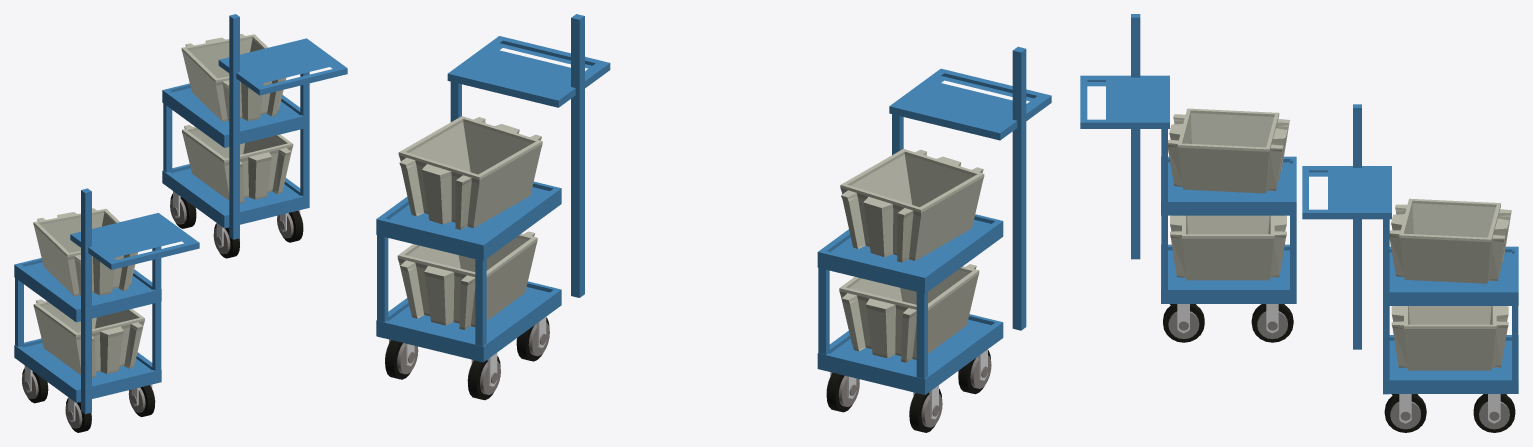
Rendered from Cart.fbx.
The picture shows the model from 3 angles, left to right: view 1: azimuth 30°, elevation 25°; view 2: azimuth 150°, elevation 25°; view 3: azimuth 270°, elevation 25°; orthographic projection. The views are drawn at different scales.
Visible parts, largest first — view 1: Tote1 (×2), Tote_2 (×2), pCube712 (×2), pCube697 (×2), pCube699 (×2), pCube700 (×2), pCube701 (×2), pCube703 (×2), pCylinder1 (×2); view 2: Tote_2 (×2), Tote1 (×2), pCube712 (×2), pCube697 (×2), pCube699 (×2), pCube700 (×2), pCube703 (×2), pCube702 (×2); view 3: Tote_2 (×2), Tote1 (×2), pCube712 (×2), pCube699 (×2), pCube697 (×2), pCube700 (×2), pCube701 (×2), pCylinder11 (×2), pCylinder1 (×2), pCube702 (×2), pCylinder12 (×2), pCylinder2 (×2).
Boxes of the visible parts, left/top/right/bottom form: Tote1 (×2): left=33, top=125, right=293, bottom=377; Tote_2 (×2): left=33, top=34, right=286, bottom=295; pCube712 (×2): left=70, top=38, right=347, bottom=269; pCube697 (×2): left=14, top=164, right=309, bottom=402; pCube699 (×2): left=14, top=83, right=309, bottom=322; pCube700 (×2): left=81, top=14, right=239, bottom=414; pCube701 (×2): left=152, top=72, right=309, bottom=370; pCube703 (×2): left=15, top=90, right=172, bottom=347; pCylinder1 (×2): left=134, top=210, right=303, bottom=416; Tote_2 (×2): left=398, top=116, right=984, bottom=262; Tote1 (×2): left=397, top=231, right=979, bottom=362; pCube712 (×2): left=447, top=36, right=1051, bottom=140; pCube697 (×2): left=376, top=281, right=1003, bottom=394; pCube699 (×2): left=376, top=181, right=1003, bottom=293; pCube700 (×2): left=571, top=14, right=1026, bottom=330; pCube703 (×2): left=475, top=241, right=927, bottom=378; pCube702 (×2): left=377, top=218, right=829, bottom=369; Tote_2 (×2): left=1168, top=108, right=1511, bottom=283; Tote1 (×2): left=1170, top=215, right=1508, bottom=370; pCube712 (×2): left=1080, top=75, right=1391, bottom=219; pCube699 (×2): left=1161, top=156, right=1518, bottom=305; pCube697 (×2): left=1161, top=244, right=1518, bottom=393; pCube700 (×2): left=1131, top=14, right=1361, bottom=349; pCube701 (×2): left=1161, top=129, right=1389, bottom=394; pCylinder11 (×2): left=1251, top=304, right=1515, bottom=432; pCylinder1 (×2): left=1163, top=304, right=1426, bottom=432; pCube702 (×2): left=1290, top=199, right=1518, bottom=380; pCylinder12 (×2): left=1257, top=311, right=1509, bottom=429; pCylinder2 (×2): left=1168, top=311, right=1420, bottom=429.
Bounding box in the file's own units: 6.61 × 5.54 × 6.73.
